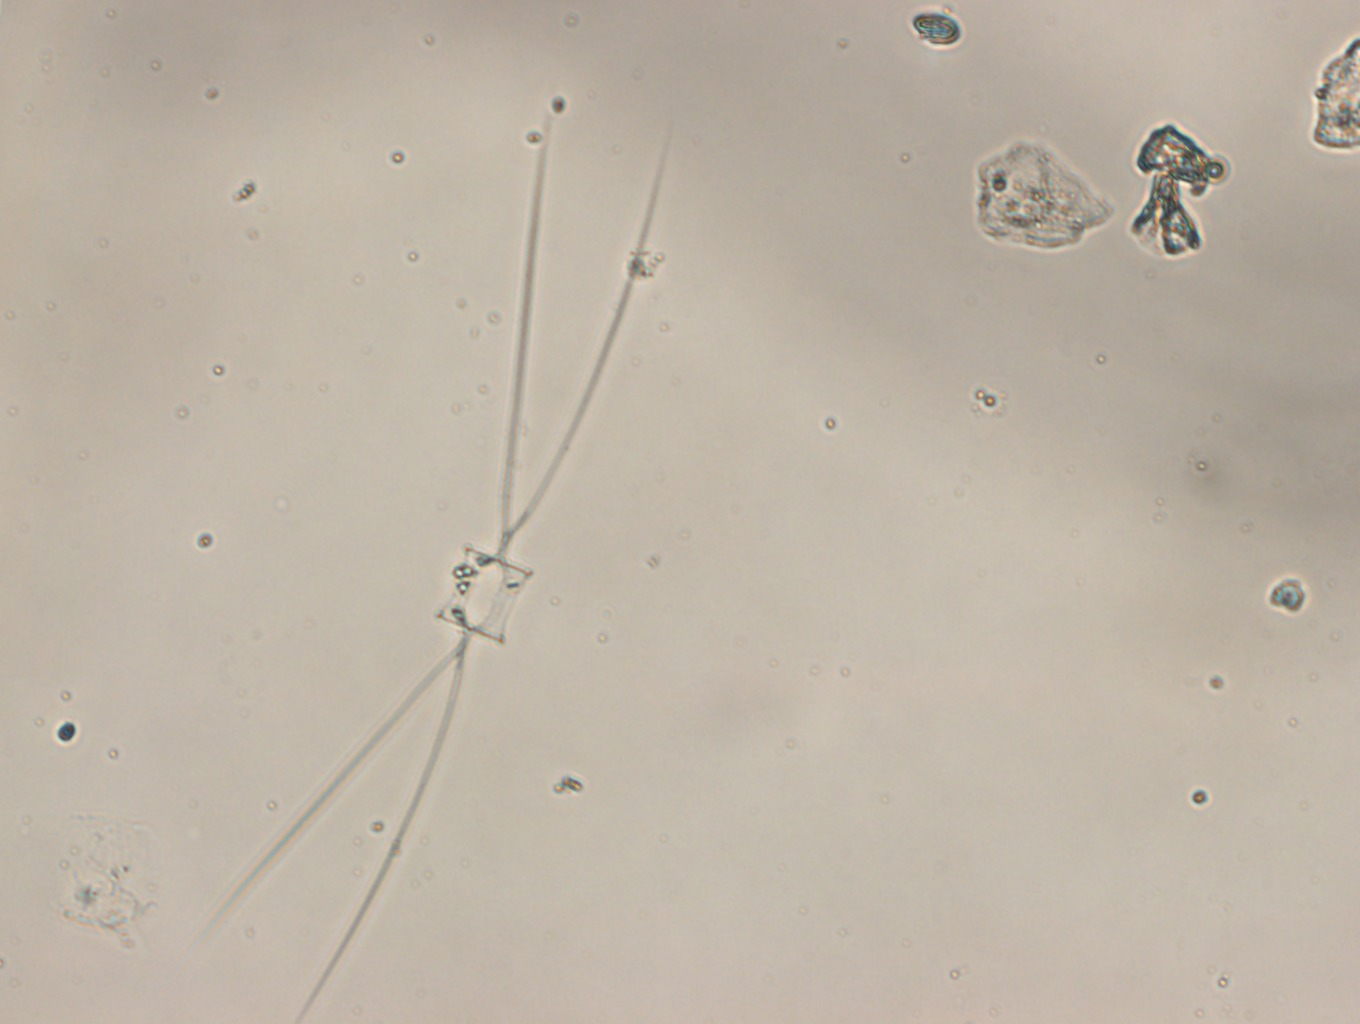chaetoceros: (164, 97, 674, 1024)
